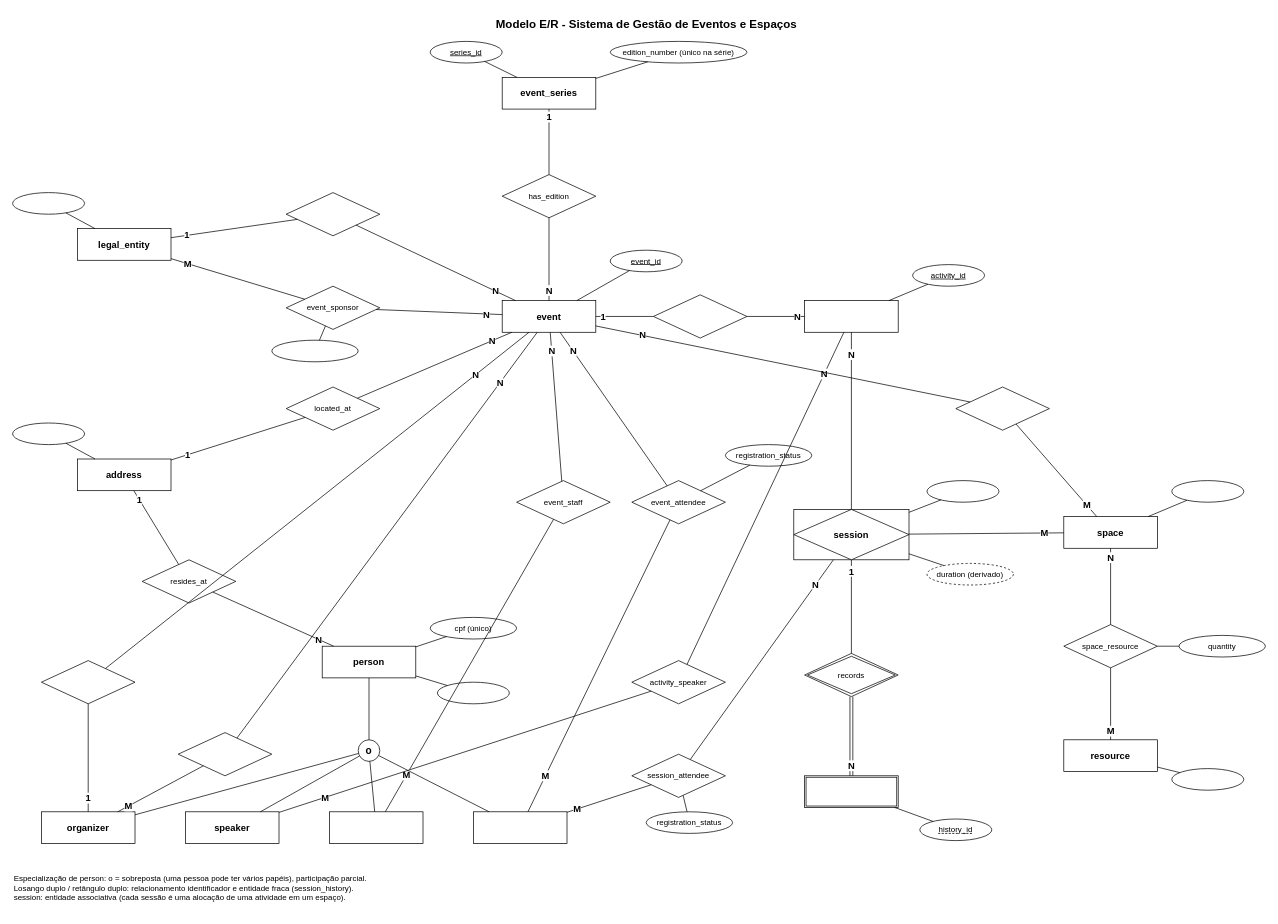
Some shapes in this 1278 by 924 pixel diagram are drawn without their labels. Here are the shapes that lost their labels. From the top down, the centre of each, then its label:
At point (48, 203): "entity_id".
At point (332, 214): "hosts".
At point (700, 316): "offers".
At point (851, 316): "activity".
At point (314, 350): "sponsorship_value".
At point (1002, 408): "event_space".
At point (48, 433): "address_id".
At point (962, 491): "session_id".
At point (1207, 491): "space_id".
At point (88, 682): "primary_organizer".
At point (473, 692): "person_id".
At point (224, 754): "event_organizer".
At point (851, 791): "session_history".
At point (1207, 779): "resource_id".
At point (376, 827): "staff".
At point (520, 827): "attendee".
